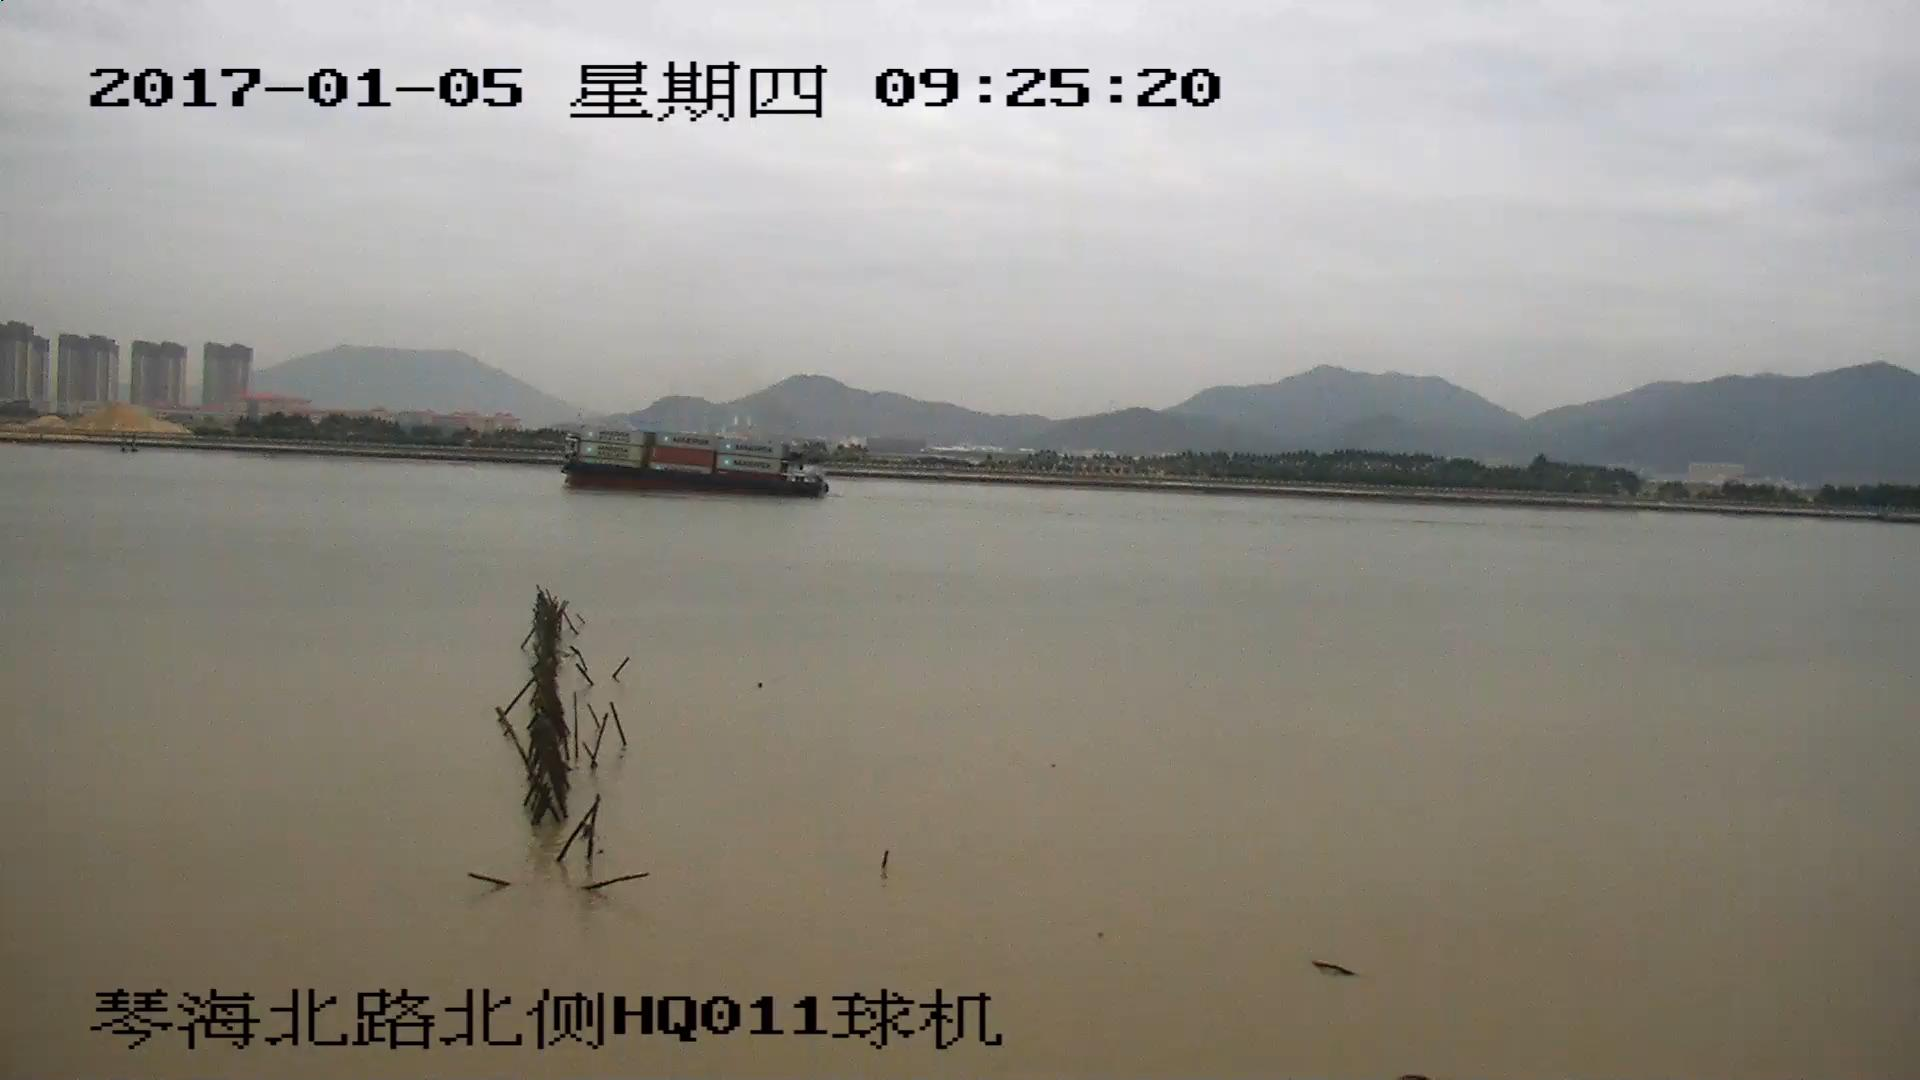container ship: (554, 426, 822, 500)
